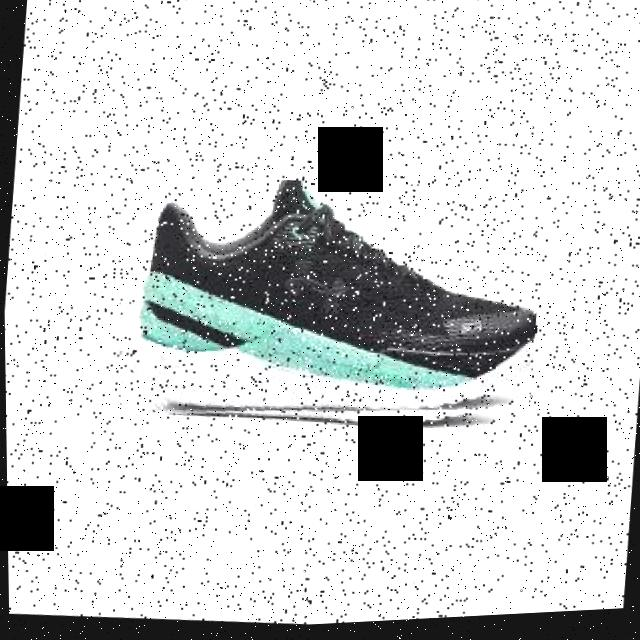shoe: (97, 158, 547, 452)
